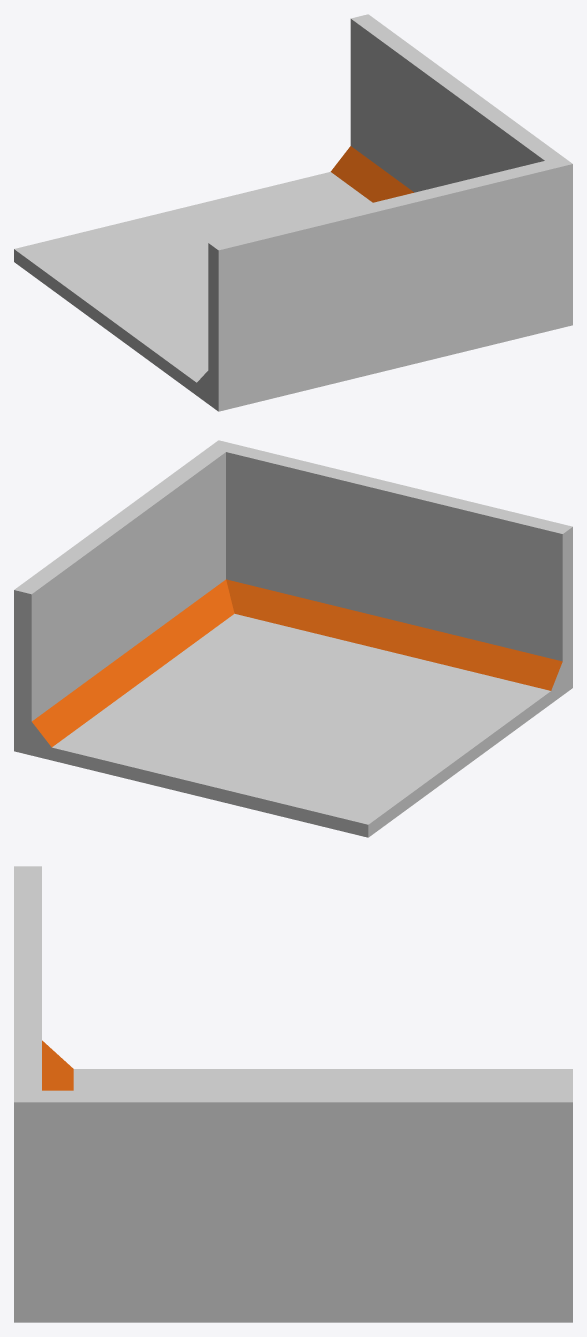
The model's file is 2-wall-L.fbx.
The picture shows the model from 3 angles, top to bottom: view 1: azimuth 30°, elevation 25°; view 2: azimuth 150°, elevation 25°; view 3: azimuth 270°, elevation 25°; orthographic projection. The views are drawn at different scales.
Parts seen in each view (by area): view 1: Плоскость.015; view 2: Плоскость.015; view 3: Плоскость.015.
Boxes of the visible parts, x1,y1,x2,y2 form: Плоскость.015: (14, 14, 572, 411); Плоскость.015: (14, 440, 572, 837); Плоскость.015: (14, 866, 572, 1322).
Size of the model in its own units: 200 by 87 by 200.
